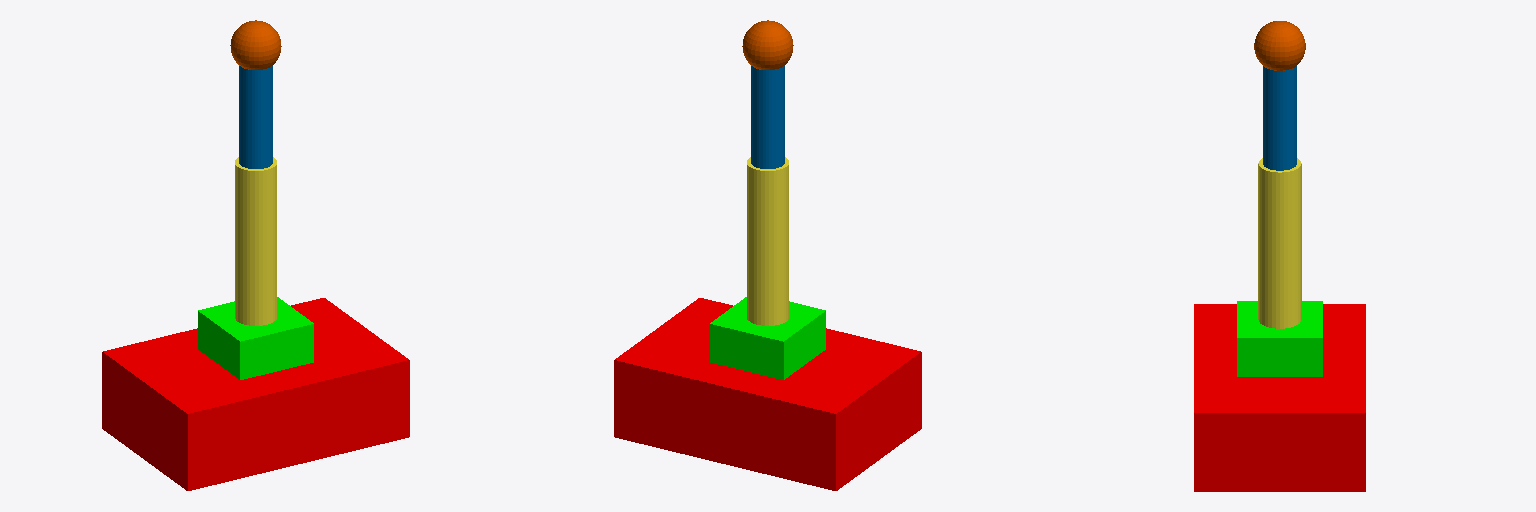
URDF robot description (camera_shaft):
<?xml version="1.0" ?>

<robot name="camera_shaft">
  <material name="Green">
    <color rgba="0.0 1 0 1.0"/>
  </material>

  <link name="world"/>
  <link name="platform">
    <visual>
      <origin rpy="0 0 0" xyz="0 0 0.05"/>
      <geometry>
        <box size="0.3 0.2 0.1"/>
      </geometry>
      <material name="Red">
        <color rgba="1.0 0 0 1.0"/>
      </material>
    </visual>
    <collision>
      <origin rpy="0 0 0" xyz="0 0 0.05"/>
      <geometry>
        <box size="0.3 0.2 0.1"/>
      </geometry>
    </collision>
  </link>
  <joint name="platform" type="prismatic">
    <origin rpy="0 0 0" xyz="0 0 0" />
    <!-- axis defaults to 1 0 0 -->
    <parent link="world" />
    <child link="platform" />
    <limit effort="0" velocity="0" lower="-0.4" upper="0.6"/>
  </joint>

  <link name="base">
    <visual>
      <origin rpy="0 0 0" xyz="0 0 0.025"/>
      <geometry>
        <box size="0.1 0.1 0.05"/>
      </geometry>
      <material name="Green"/>
    </visual>
    <collision>
      <origin rpy="0 0 0" xyz="0 0 0.025"/>
      <geometry>
        <box size="0.1 0.1 0.05"/>
      </geometry>
    </collision>
  </link>
  <joint name="base" type="prismatic">
    <origin rpy="0 0 0" xyz="0 0 0.1" />
    <axis xyz="0 1 0" />
    <parent link="platform" />
    <child link="base" />
    <limit effort="0" velocity="0" lower="-0.1" upper="0.1"/>
  </joint>

  <link name="beam">
    <visual>
      <origin rpy="0 1.5707963267948966 0" xyz="0.1 0 0"/>
      <geometry>
        <cylinder length="0.2" radius="0.025"/>
      </geometry>
    </visual>
    <collision>
      <origin rpy="0 1.5707963267948966 0" xyz="0.1 0 0"/>
      <geometry>
        <cylinder length="0.2" radius="0.025"/>
      </geometry>
    </collision>
  </link>
  <joint name="beam" type="revolute">
    <origin rpy="0 -1.5707963267948966 0" xyz="0 0 0.05" />
    <parent link="base" />
    <child link="beam" />
    <limit effort="0" velocity="0" lower="0" upper="1"/>
  </joint>

  <link name="shaft">
    <visual>
      <origin rpy="0 0 0" xyz="0 0 0.075"/>
      <geometry>
        <cylinder length="0.15" radius="0.02"/>
      </geometry>
    </visual>
    <collision>
      <origin rpy="0 0 0" xyz="0 0 0.075"/>
      <geometry>
        <cylinder length="0.15" radius="0.02"/>
      </geometry>
    </collision>
  </link>
  <joint name="shaft" type="prismatic">
    <origin rpy="0 1.5707963267948966 0" xyz="0.2 0 0" />
    <axis xyz="0 0 1"/>
    <parent link="beam" />
    <child link="shaft" />
    <limit effort="0" velocity="0" lower="-0.1" upper="0"/>
  </joint>

  <link name="rod">
    <!-- default origin -->
    <visual>
      <geometry>
        <sphere radius="0.03"/>
      </geometry>
    </visual>
    <visual>
      <origin xyz="0.05 0 0" rpy="0 1.5707963267948966 0"/>
      <geometry>
        <capsule radius="0.02" length="0.1"/>
      </geometry>
    </visual>
    <collision>
      <geometry>
        <sphere radius="0.03"/>
      </geometry>
    </collision>
    <collision>
      <origin xyz="0.05 0 0" rpy="0 1.5707963267948966  0"/>
      <geometry>
        <capsule radius="0.02" length="0.1"/>
      </geometry>
    </collision>
  </link>
  <joint name="rod" type="fixed">
    <origin rpy="0 0 0" xyz="0 0 0.15" />
    <axis xyz="0 0 0"/>
    <parent link="shaft" />
    <child link="rod" />
  </joint>

  <link name="mount">
    <visual>
      <origin xyz="0 0 0" rpy="0 0 0"/>
      <geometry>
        <mesh filename="mount.glb" scale="0.03 0.03 0.03"/>
      </geometry>
    </visual>
    <collision>
      <origin xyz="0 0 0" rpy="0 0 0"/>
      <geometry>
        <mesh filename="mount.glb" scale="0.03 0.03 0.03"/>
      </geometry>
    </collision>
  </link>
  <joint name="mount" type="continuous">
    <origin rpy="0 0 0" xyz="0.1 0 0.04" />
    <axis xyz="1 0 0"/>
    <parent link="rod" />
    <child link="mount" />
    <limit effort="0" velocity="0"/>
  </joint>

  <link name="camera">
    <visual>
      <origin xyz="0 0 0" rpy="0 0 0"/>
      <geometry>
        <mesh filename="package://camera.obj" scale="0.03 0.03 0.03"/>
      </geometry>
      <material name="tex">
        <texture filename="package://texture.png"/>
      </material>
    </visual>
    <collision>
      <origin xyz="0 0 0" rpy="0 0 0"/>
      <geometry>
        <mesh filename="package://camera.obj" scale="0.03 0.03 0.03"/>
      </geometry>
    </collision>
  </link>
  <joint name="camera" type="continuous">
    <origin rpy="0 0 0" xyz="0 0 0" />
    <axis xyz="0 1 0"/>
    <parent link="mount" />
    <child link="camera" />
    <limit effort="0" velocity="0"/>
  </joint>

  <sensor name="camera" type="depth">
    <parent link="camera"/>
    <origin xyz="0.02 0 0"/>
    <camera>
      <horizontal_fov>1.5707963267948966</horizontal_fov>
      <image>
        <format>L8</format>
        <width>800</width>
        <height>200</height>
      </image>
      <clip>
        <near>0.01</near>
        <far>100</far>
      </clip>
    </camera>
  </sensor>

</robot>

--- Render facts (derived) ---
The picture shows the robot from 3 angles, left to right: view 1: azimuth 30°, elevation 25°; view 2: azimuth 150°, elevation 25°; view 3: azimuth 270°, elevation 25°; orthographic projection.
Model camera_shaft with 8 links and 7 joints (1 revolute, 2 continuous, 3 prismatic, 1 fixed), rooted at world, posed every joint at zero.
Links seen in each view (by area): view 1: platform, beam, base, shaft, rod; view 2: platform, beam, base, shaft, rod; view 3: platform, beam, base, shaft, rod.
Boxes of the visible links, left/top/right/bottom form: platform: left=102, top=298, right=409, bottom=490; beam: left=235, top=157, right=276, bottom=325; base: left=198, top=297, right=313, bottom=379; shaft: left=239, top=66, right=272, bottom=168; rod: left=230, top=20, right=281, bottom=69; platform: left=614, top=298, right=921, bottom=490; beam: left=747, top=157, right=788, bottom=325; base: left=710, top=297, right=825, bottom=379; shaft: left=751, top=66, right=784, bottom=168; rod: left=742, top=20, right=793, bottom=69; platform: left=1194, top=304, right=1365, bottom=491; beam: left=1258, top=158, right=1301, bottom=328; base: left=1237, top=301, right=1322, bottom=376; shaft: left=1263, top=66, right=1296, bottom=170; rod: left=1254, top=21, right=1305, bottom=70.
Bounding box of the posed robot: 0.3 × 0.2 × 0.53 m (x, y, z).
0 mesh visuals loaded from 1 distinct referenced files (none loaded); not drawn: 1 (file found but could not be loaded), 1 (reference in a form the renderer does not follow; not among the files counted above).